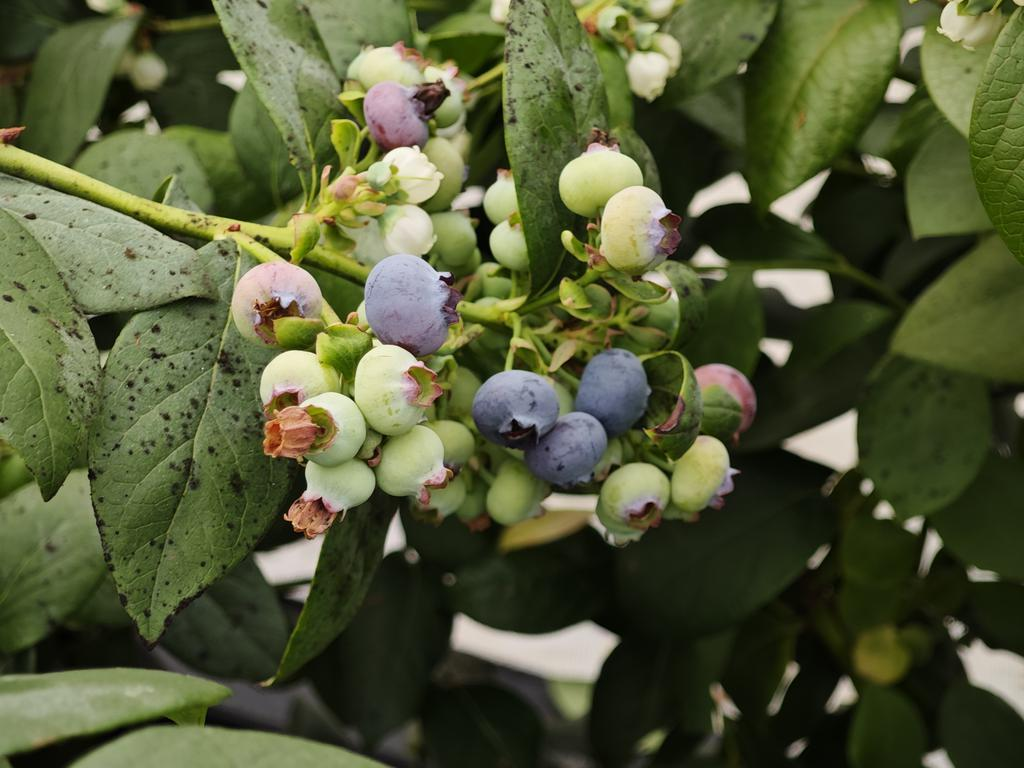RipeBlueBerry: (365, 253, 458, 352), (472, 370, 560, 447), (578, 348, 653, 430), (526, 410, 606, 485)
Semi-RipeBlueBerry: (364, 82, 448, 144)
UnripeBlueBerry: (356, 346, 440, 434), (230, 266, 323, 344), (600, 186, 682, 274)
